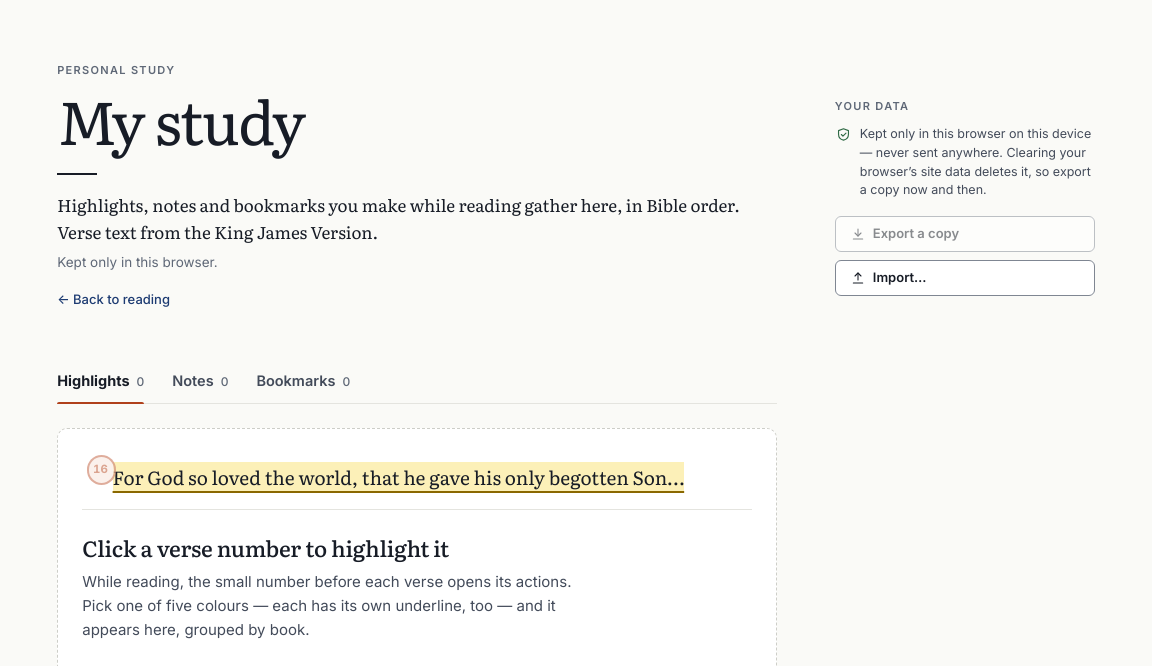
Test case: MyStudyPage › teaches the feature when empty
This screenshot has width=1152, height=666.
Expected: the heading "Click a verse number to highlight it" is shown, [82,531,449,564]
Click the tab "Notes 0".
click(200, 382)  # box [172,360,228,404]
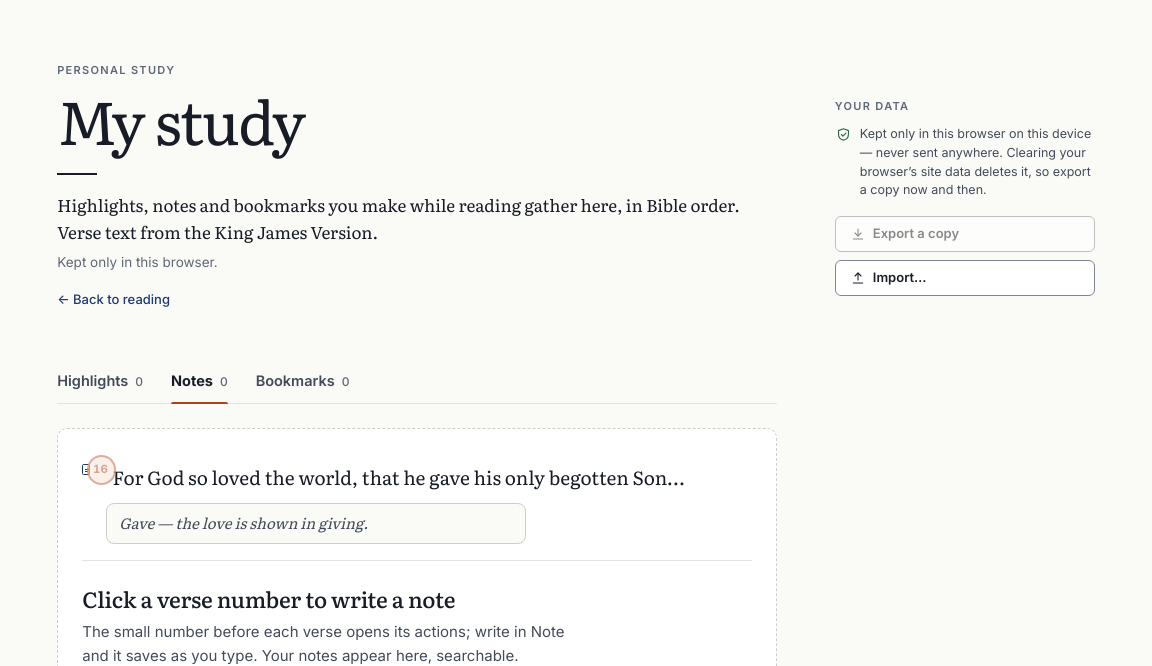
Expected: the button "Export a copy" is disabled, [835,216,1095,252]
Now the heading "Click a verse number to write a note" is shown, box [82,582,455,615]
